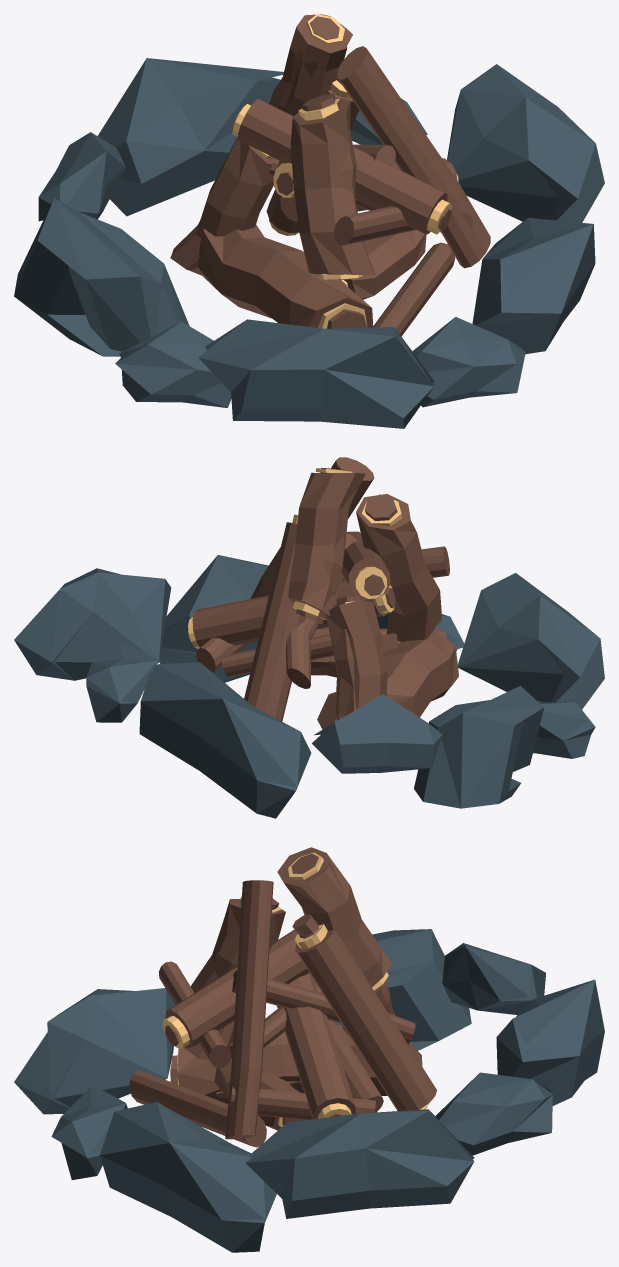
File: campfire wood.glb
The picture shows the model from 3 angles, top to bottom: view 1: azimuth 30°, elevation 25°; view 2: azimuth 150°, elevation 25°; view 3: azimuth 270°, elevation 25°; orthographic projection. The views are drawn at different scales.
Visible parts, largest first — view 1: group1727620534, group1409374669, group322963004, group1862512098, group844862452, group501965869, group2002716909, group857036982, group1199614330, group775239851, group1195393249, group409386264 (+8 smaller); view 2: group322963004, group1727620534, group1409374669, group1862512098, group1455106290, group1203125454, group2002716909, group409386264, group1556129809, group844862452, group501965869, group1232210061 (+10 smaller); view 3: group1409374669, group844862452, group1727620534, group1556129809, group322963004, group857036982, group1232210061, group1862512098, group1455106290, group1203125454, group1283832693, group1199614330 (+10 smaller).
Part boxes in pixels (left/top/right/bottom): group1727620534: left=198, top=319, right=434, bottom=428; group1409374669: left=447, top=64, right=604, bottom=222; group322963004: left=98, top=58, right=283, bottom=216; group1862512098: left=14, top=198, right=189, bottom=356; group844862452: left=472, top=218, right=595, bottom=354; group501965869: left=198, top=224, right=373, bottom=328; group2002716909: left=290, top=93, right=375, bottom=280; group857036982: left=337, top=46, right=490, bottom=268; group1199614330: left=232, top=99, right=451, bottom=234; group775239851: left=412, top=317, right=525, bottom=407; group1195393249: left=115, top=321, right=231, bottom=407; group409386264: left=170, top=137, right=274, bottom=275; group322963004: left=139, top=662, right=311, bottom=818; group1727620534: left=458, top=573, right=604, bottom=709; group1409374669: left=14, top=568, right=171, bottom=680; group1862512098: left=414, top=686, right=543, bottom=808; group1455106290: left=288, top=468, right=365, bottom=624; group1203125454: left=312, top=694, right=442, bottom=773; group2002716909: left=356, top=494, right=441, bottom=641; group409386264: left=324, top=596, right=387, bottom=720; group1556129809: left=244, top=514, right=305, bottom=721; group844862452: left=159, top=555, right=328, bottom=682; group501965869: left=317, top=629, right=458, bottom=729; group1232210061: left=86, top=640, right=158, bottom=722; group1409374669: left=245, top=1109, right=474, bottom=1218; group844862452: left=100, top=1102, right=276, bottom=1252; group1727620534: left=14, top=988, right=175, bottom=1114; group1556129809: left=292, top=914, right=436, bottom=1110; group322963004: left=496, top=979, right=604, bottom=1105; group857036982: left=225, top=880, right=273, bottom=1139; group1232210061: left=435, top=1072, right=552, bottom=1155; group1862512098: left=334, top=929, right=471, bottom=1050; group1455106290: left=277, top=847, right=392, bottom=992; group1203125454: left=442, top=943, right=545, bottom=1014; group1283832693: left=277, top=973, right=356, bottom=1119; group1199614330: left=162, top=929, right=309, bottom=1048.
Size of the model in its own units: 0.5159 by 0.2988 by 0.5229.
